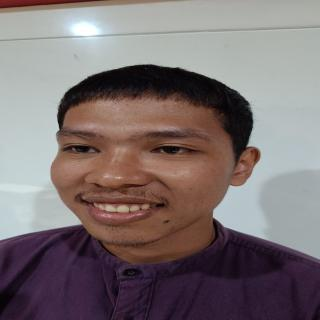Senang: (51, 95, 243, 249)
